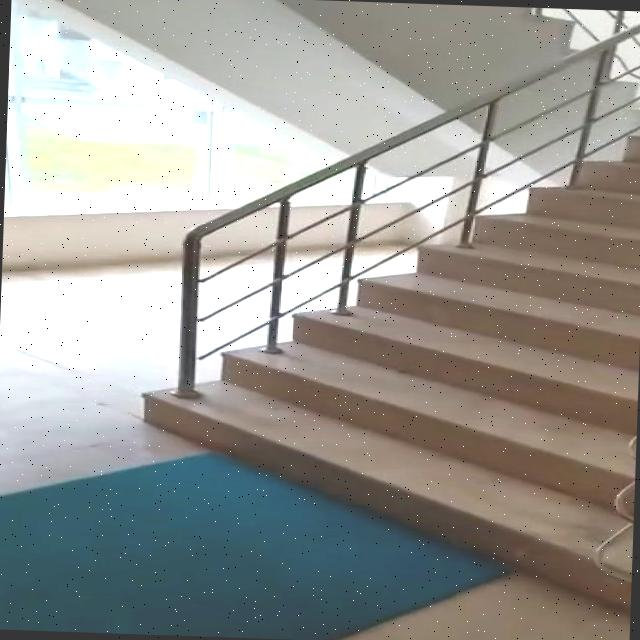stairs: (134, 114, 640, 611)
